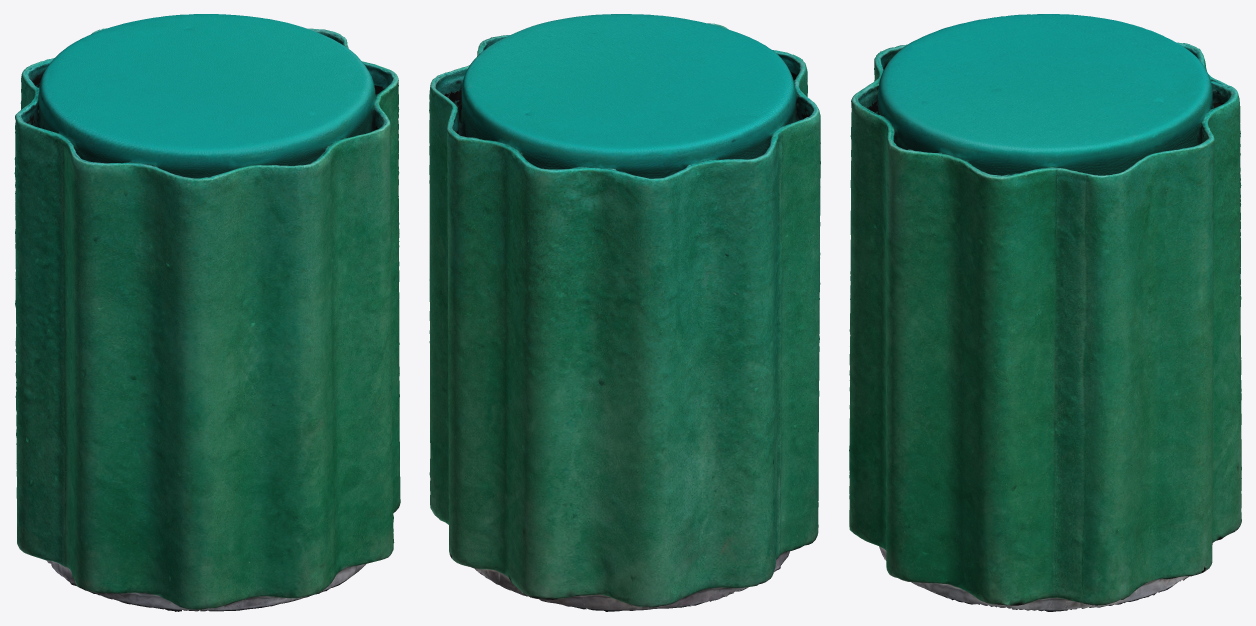
File: Fendi-KuengCaputo_RomanMolds_2019_2.glb
3 renders of one model, left to right at view 1: azimuth 30°, elevation 25°; view 2: azimuth 150°, elevation 25°; view 3: azimuth 270°, elevation 25°, orthographic.
Parts seen in each view (by area): view 1: fendi_hocker_klein; view 2: fendi_hocker_klein; view 3: fendi_hocker_klein.
Part boxes in pixels (<box>): fendi_hocker_klein: <box>14,14,400,611</box>; fendi_hocker_klein: <box>429,14,820,611</box>; fendi_hocker_klein: <box>849,14,1241,611</box>.
Size of the model in its own units: 0.5177 by 0.6839 by 0.5251.
Materials: 1 (1 with a texture image).
